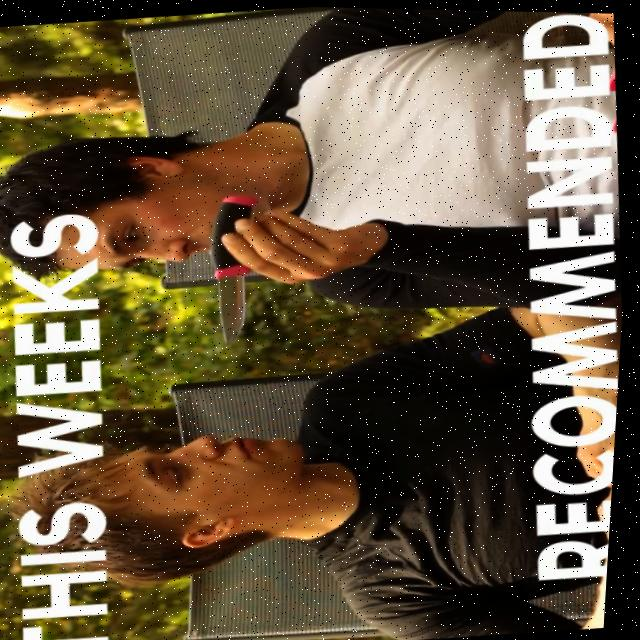knife: (195, 179, 274, 343)
